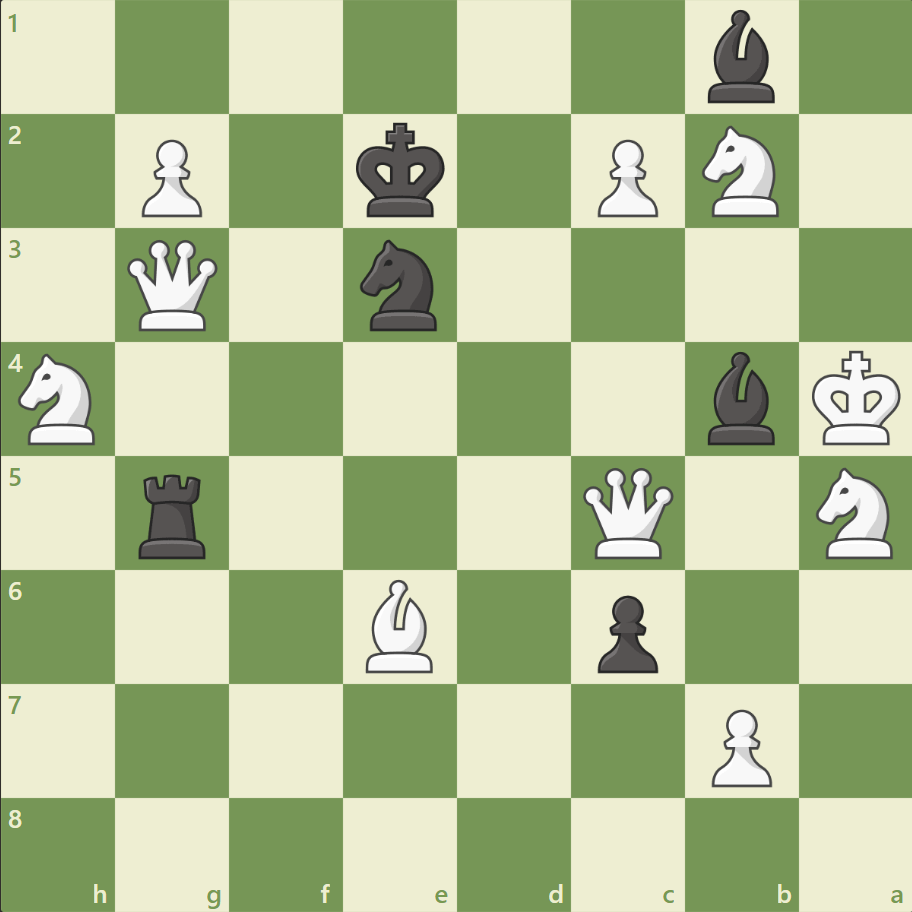B: (358, 574, 442, 676)
K: (806, 344, 906, 452)
N: (806, 461, 903, 564), (11, 348, 108, 450), (692, 121, 789, 223)
P: (701, 700, 776, 791), (133, 132, 208, 223), (588, 132, 662, 223)
Q: (578, 463, 677, 562), (124, 236, 223, 335)
b: (698, 6, 782, 109), (698, 347, 782, 449)
k: (351, 117, 451, 225)
n: (351, 234, 449, 337)
p: (588, 586, 662, 677)
r: (133, 466, 215, 563)
